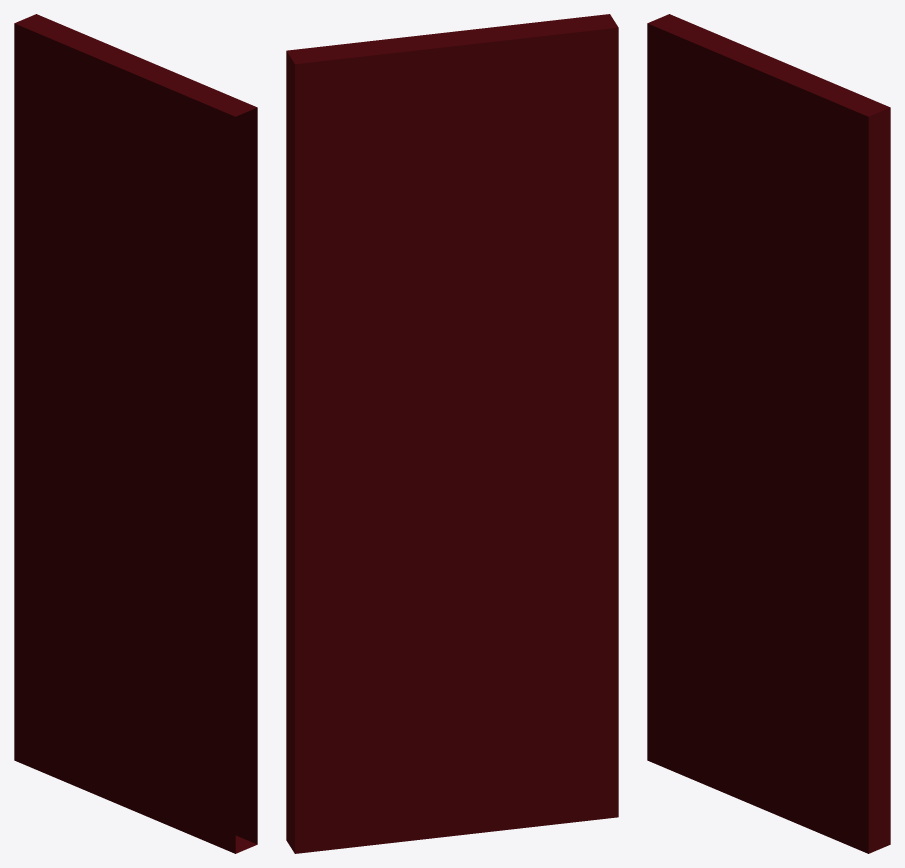
Rendered from buildingHeadlinerDoor01.fbx.
The picture shows the model from 3 angles, left to right: view 1: azimuth 90°, elevation 25°; view 2: azimuth 150°, elevation 25°; view 3: azimuth 270°, elevation 25°; orthographic projection. The views are drawn at different scales.
Visible parts, largest first — view 1: buildingHeadlinerDoor01; view 2: buildingHeadlinerDoor01; view 3: buildingHeadlinerDoor01.
Boxes of the visible parts, box(x1,y1,x2,y2) form: buildingHeadlinerDoor01: box(14, 14, 257, 853); buildingHeadlinerDoor01: box(286, 14, 618, 853); buildingHeadlinerDoor01: box(647, 14, 890, 853).
Size of the model in its own units: 0.6223 by 2.08 by 0.6223.
